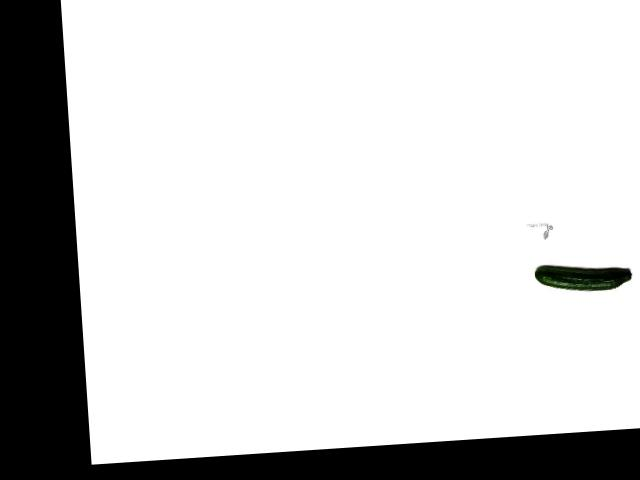cucumber: (533, 260, 632, 294)
